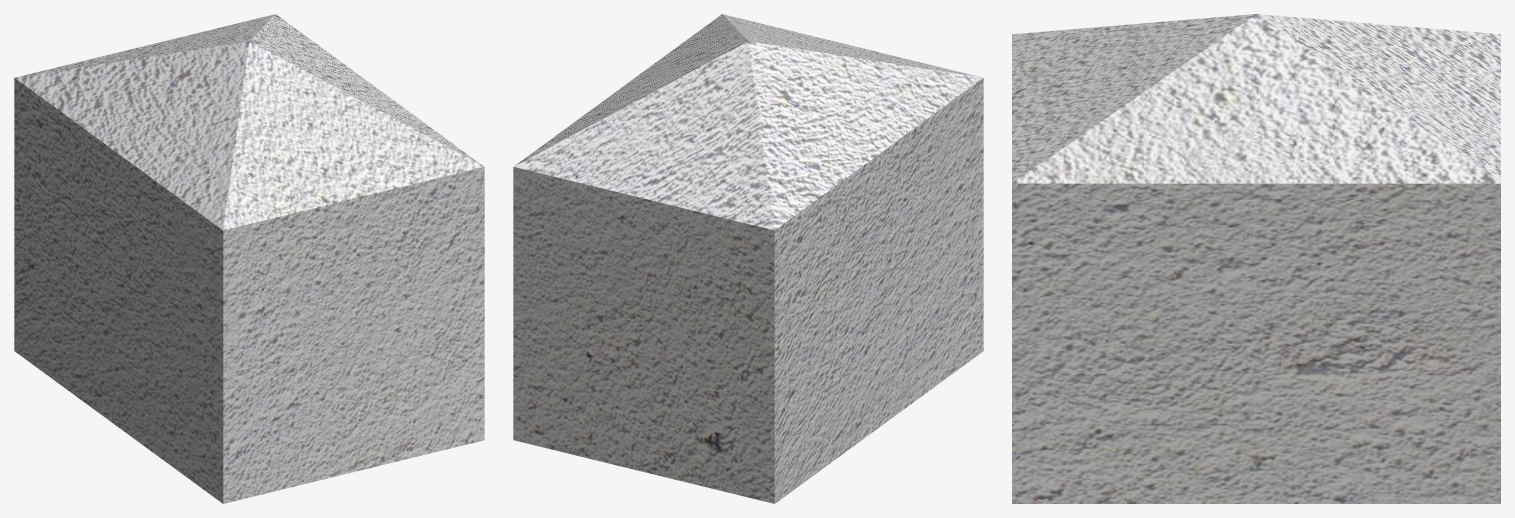
The model's file is Conti-OLD.gltf.
The picture shows the model from 3 angles, left to right: view 1: azimuth 30°, elevation 25°; view 2: azimuth 150°, elevation 25°; view 3: azimuth 270°, elevation 25°; orthographic projection. The views are drawn at different scales.
Parts seen in each view (by area): view 1: Conti; view 2: Conti; view 3: Conti.
Boxes of the visible parts, <box> form: Conti: <box>14,14,484,503</box>; Conti: <box>513,14,983,503</box>; Conti: <box>1012,14,1500,503</box>.
Bounding box in the file's own units: 0.7122 × 0.9233 × 0.9852.
Materials: 1 (1 with a texture image).
